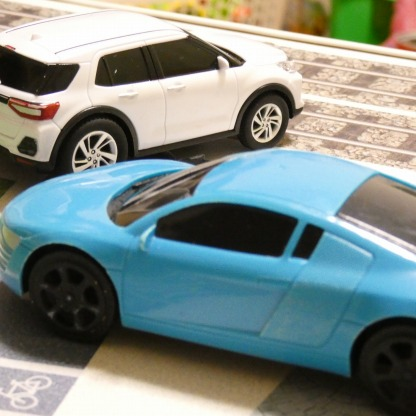car: (0, 149, 416, 410), (0, 6, 298, 173)
